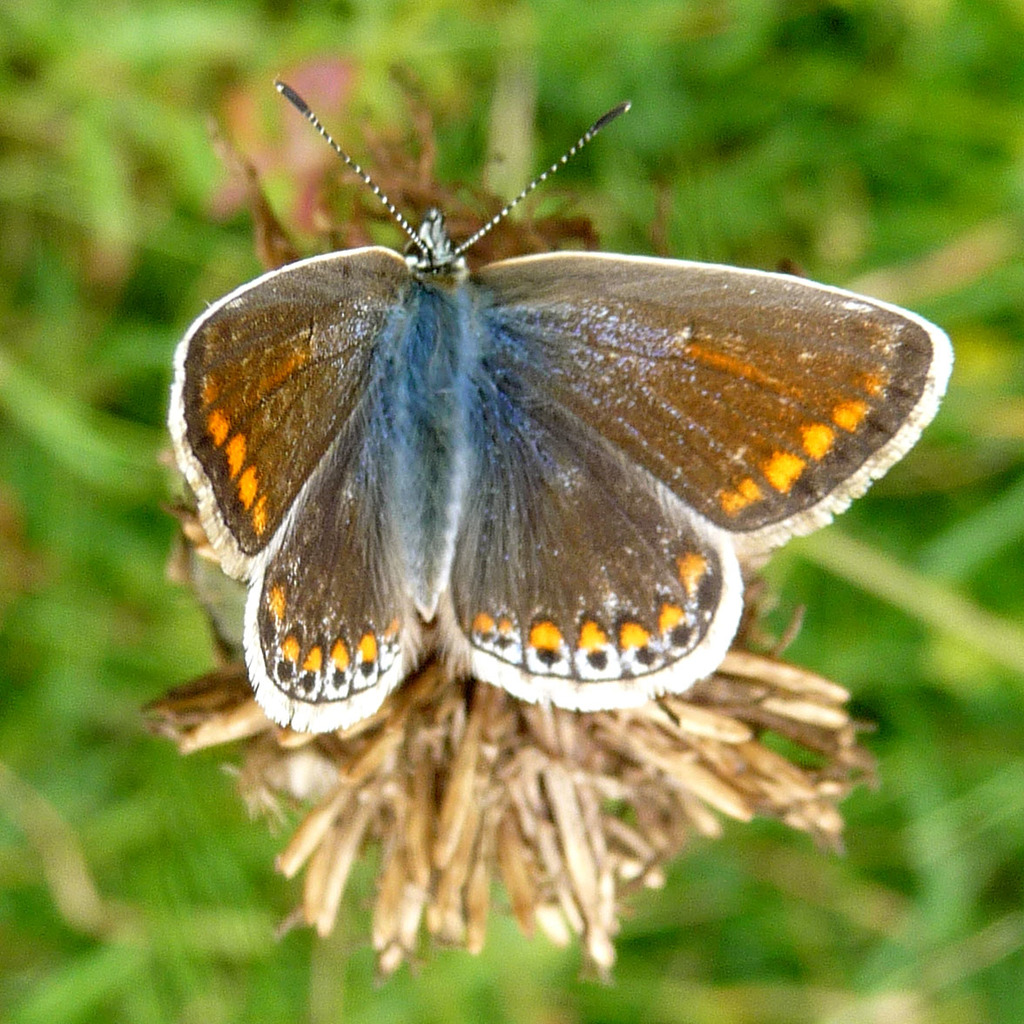Butterfly: (101, 144, 953, 766)
